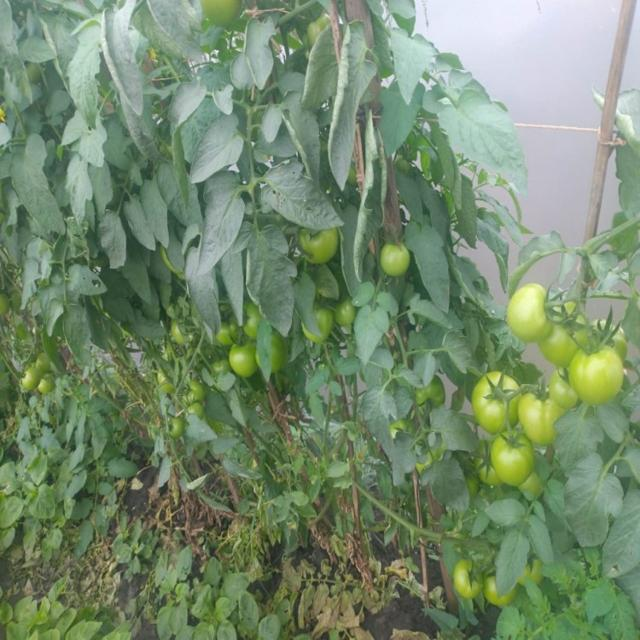tomato: (455, 357, 538, 425), (561, 336, 634, 408), (473, 415, 540, 491), (506, 277, 572, 349), (511, 384, 584, 443), (539, 296, 587, 364), (588, 326, 636, 375), (584, 307, 634, 350), (375, 241, 422, 285), (301, 298, 344, 345), (261, 334, 298, 387), (301, 221, 345, 265), (463, 441, 499, 491), (329, 290, 371, 332), (195, 1, 256, 29), (226, 337, 267, 378), (506, 553, 547, 592), (412, 372, 446, 414), (456, 559, 488, 599), (482, 572, 512, 612), (212, 309, 244, 346), (517, 462, 547, 499), (236, 301, 265, 339), (184, 381, 211, 412), (169, 317, 193, 346), (160, 408, 179, 444), (34, 347, 51, 375), (21, 367, 38, 391), (35, 377, 57, 395)
